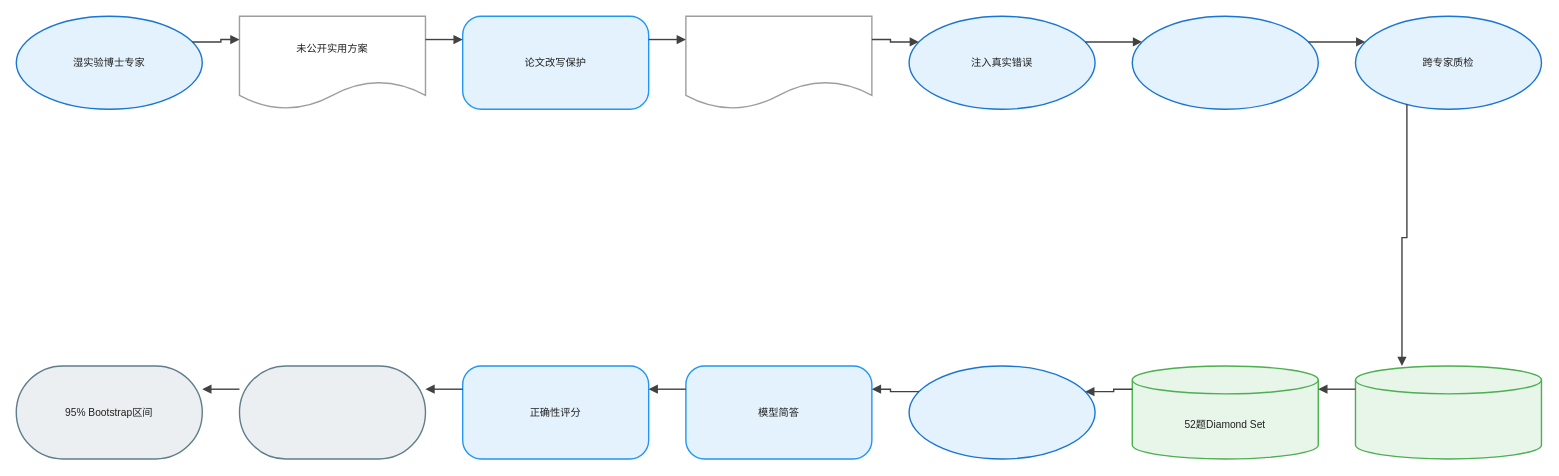
The diagram is 1559 pixels wide and 476 high, and some of its shapes have lost their labels. The shapes that lost their labels are listed below. From the top down, each one's centre as x and y in pixels, then its label:
At [778,62]: "步骤加设备加试剂".
At [1225,62]: "每方案3道简答".
At [332,412]: "第80百分位阈值".
At [1001,412]: "12专家基线".
At [1448,412]: "52方案156题".
